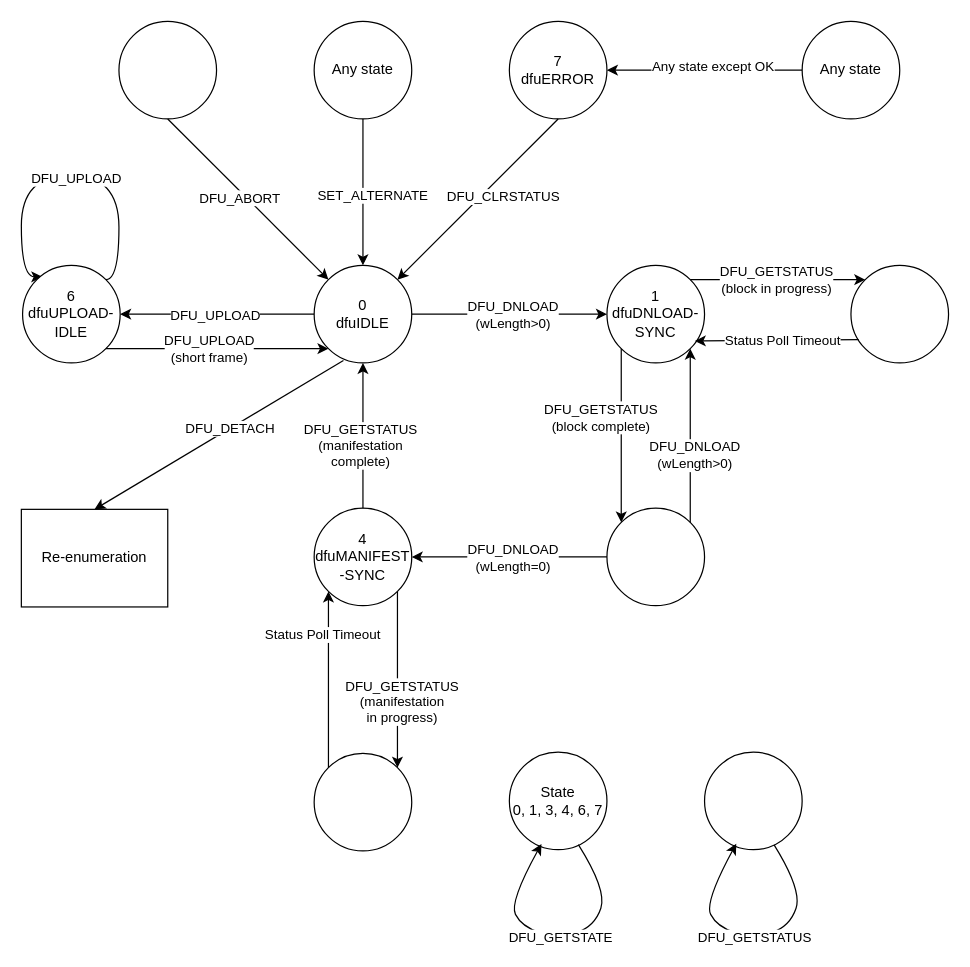
The diagram is 970 pixels wide and 967 high, and some of its shapes have lost their labels. The centre of each missing label's shape, as x and y in pixels:
"2 dfuDNLOAD-BUSY" goes at (x=899, y=313).
"3 dfuDNLOAD-IDLE" goes at (x=655, y=556).
"5 dfuMANIFEST" goes at (x=362, y=801).
"State 0, 1, 3, 4, 6" goes at (x=167, y=69).
"State 0, 3, 6, 7" goes at (x=752, y=800).
